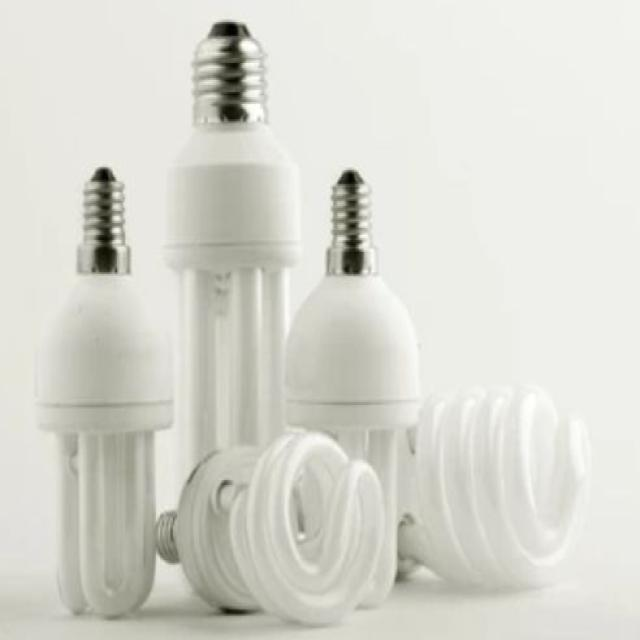electronic: (31, 17, 589, 625), (155, 17, 302, 609), (32, 163, 174, 618), (281, 167, 421, 606), (397, 380, 589, 589)
